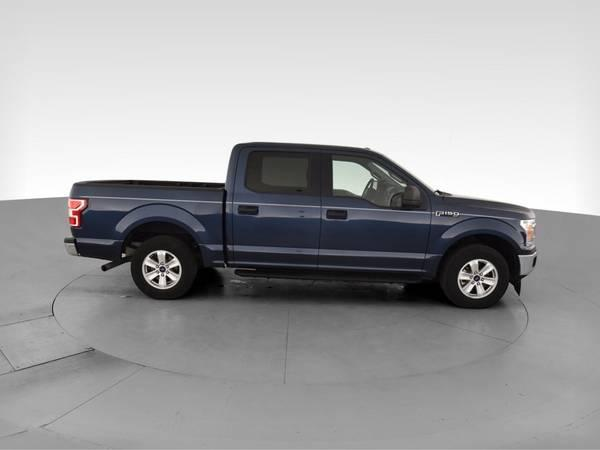Front_Bumper: (516, 246, 539, 281)
Front_Fender: (423, 206, 528, 270)
Front_Right_Door: (317, 196, 431, 275)
Front_Right_Window: (322, 150, 430, 202)
Hood: (432, 191, 534, 216)
Rear_Bumper: (64, 238, 79, 259)
Rear_Fender: (69, 180, 226, 265)
Rear_Right_Door: (226, 190, 320, 269)
Rear_Right_Window: (244, 149, 322, 196)
Right_Headlight: (519, 213, 537, 249)
Right_Taillight: (68, 196, 88, 227)
Roof: (223, 141, 431, 197)
Wheel: (442, 243, 513, 307), (129, 234, 197, 300)
